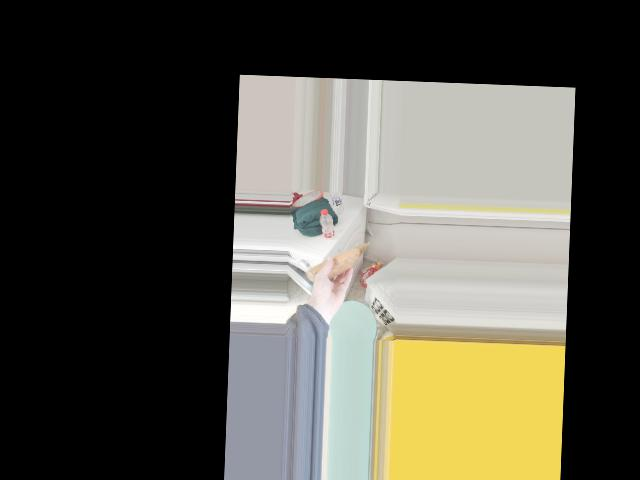sweet_potato: (320, 245, 355, 279)
